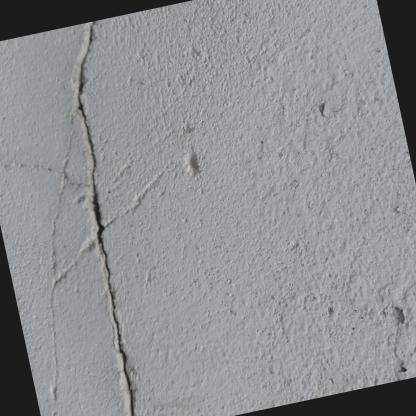crack: (69, 19, 133, 416)
